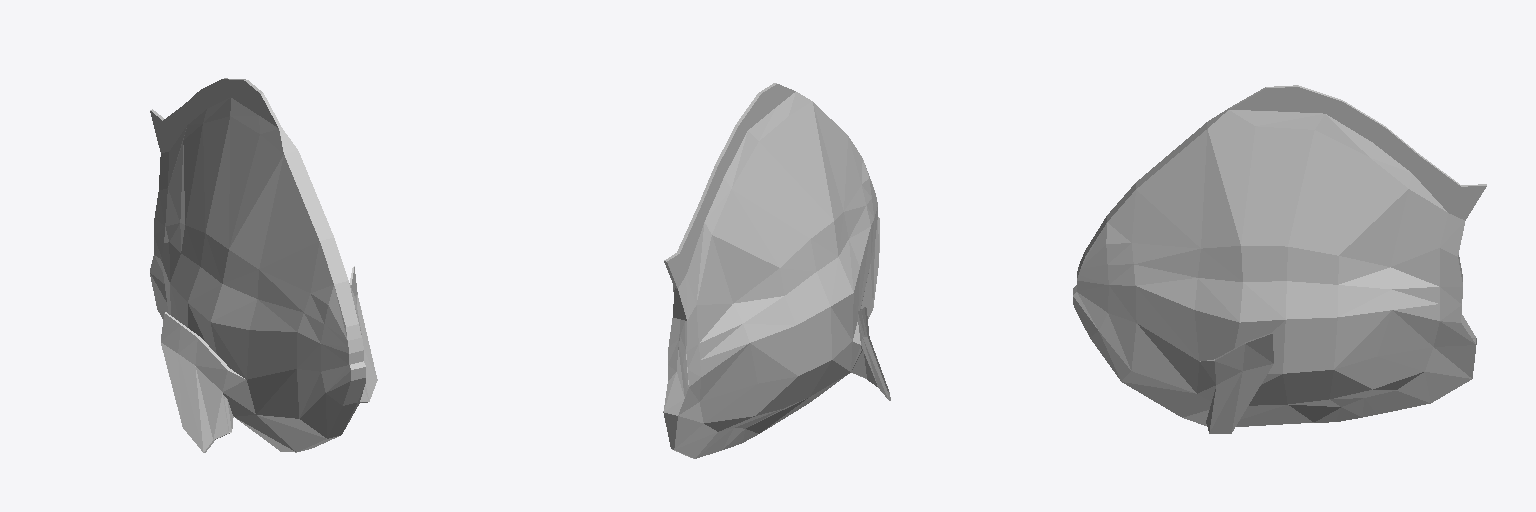
File: cuerpo.obj
The picture shows the model from 3 angles: view 1: azimuth 30°, elevation 25°; view 2: azimuth 150°, elevation 25°; view 3: azimuth 270°, elevation 25°; orthographic projection.
Visible parts, largest first — view 1: polySurface1 TropicalFish13; view 2: polySurface1 TropicalFish13; view 3: polySurface1 TropicalFish13.
Part boxes in pixels (x1,y1,x2,y2): polySurface1 TropicalFish13: (150, 78, 377, 452); polySurface1 TropicalFish13: (663, 83, 890, 458); polySurface1 TropicalFish13: (1073, 85, 1486, 433).
Bounding box in the file's own units: 1.56 × 2.56 × 2.84.